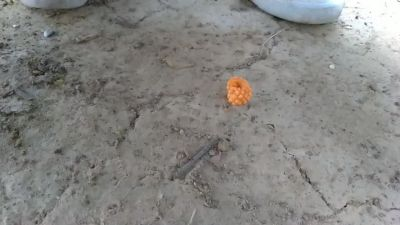eggs: (224, 71, 255, 108)
